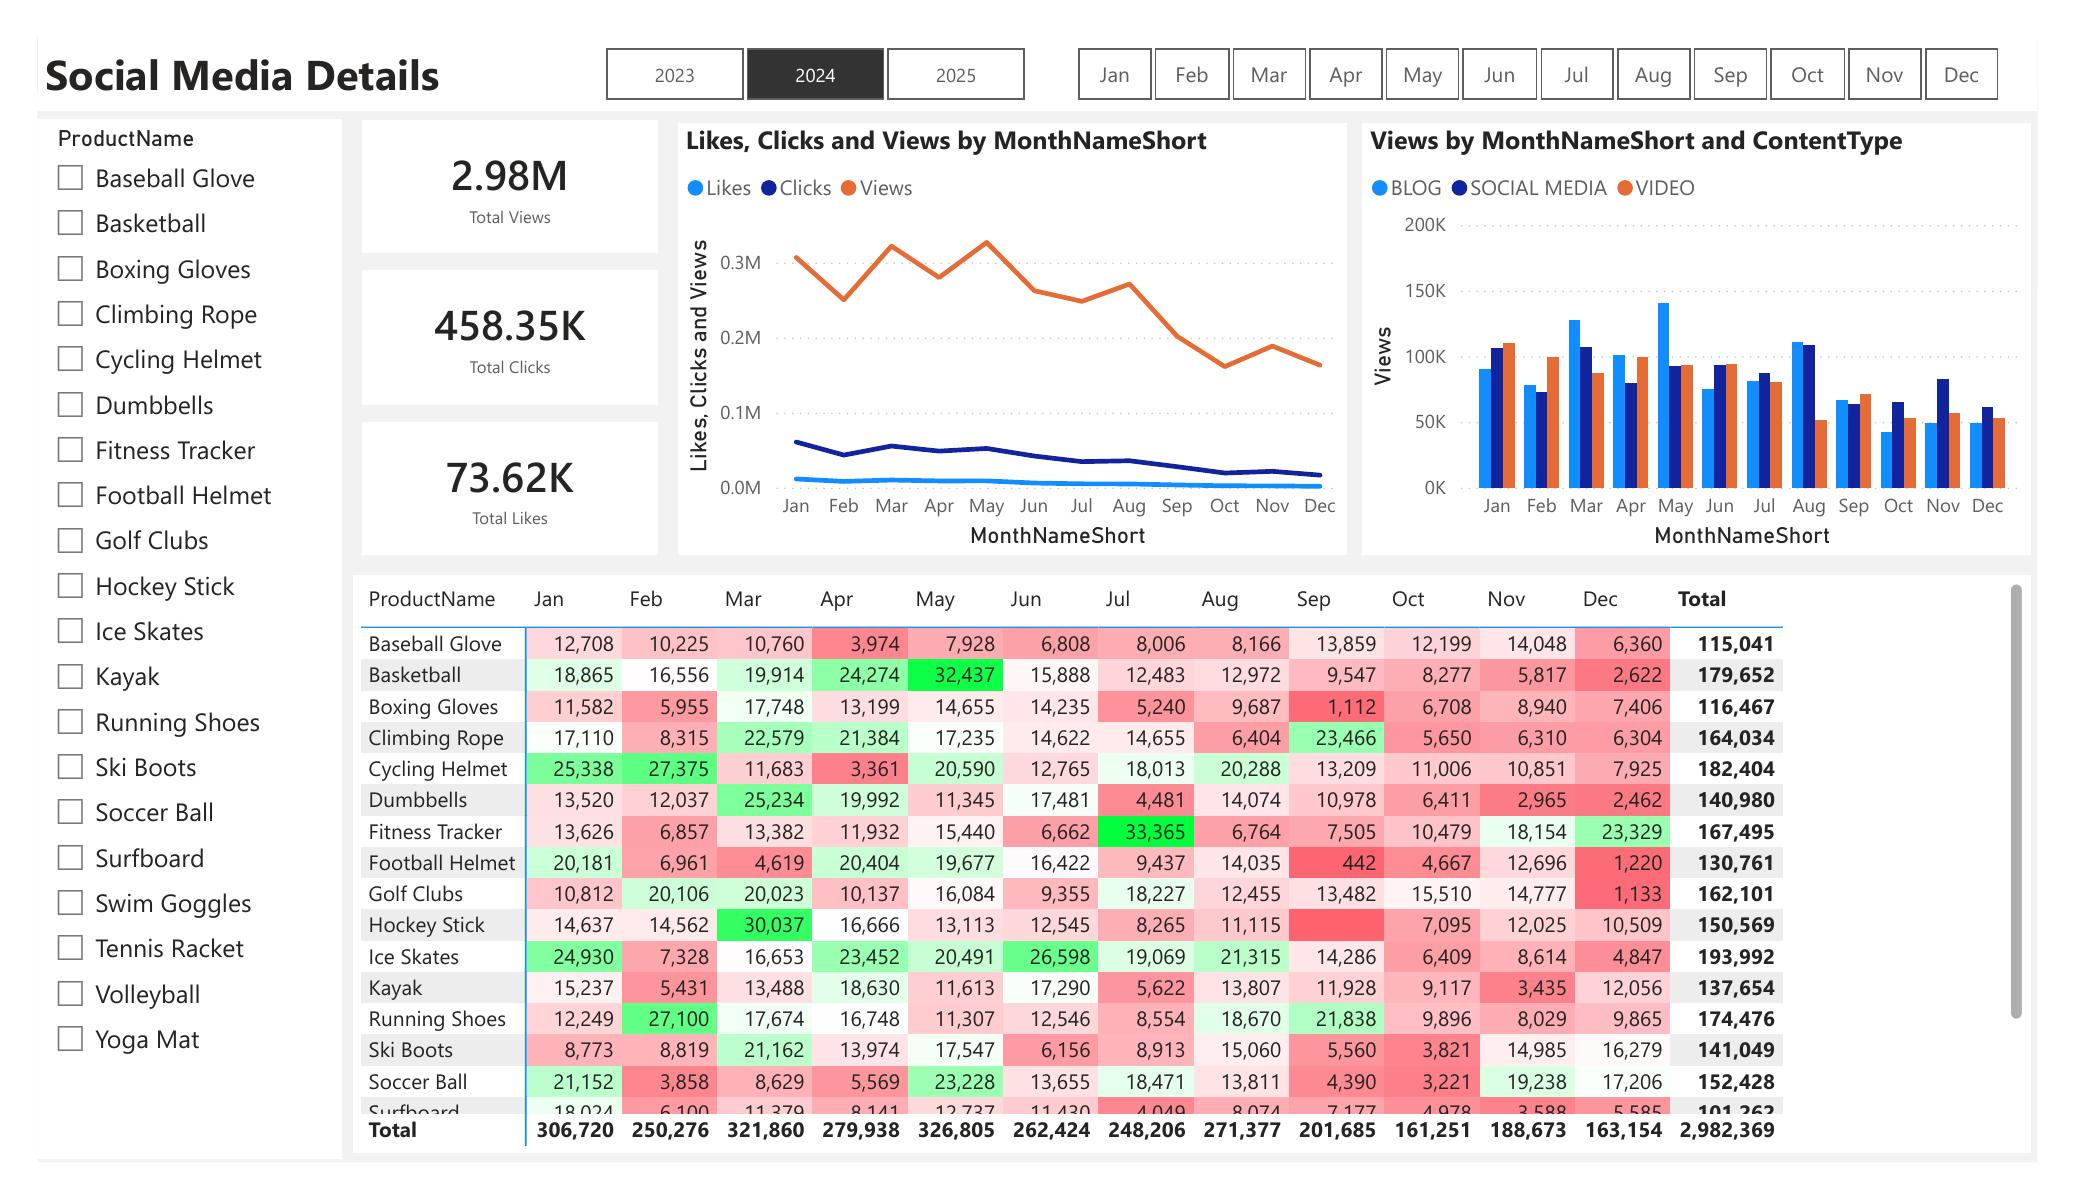

What the dashboard file says about the page in this screenshot:
{"tool":"powerbi","page":{"name":"Social Media page","canvas":[1280,720],"ordinal":2},"visuals":[{"type":"slicer","fields":{"Values":["products.ProductName"]},"box":[0,52.1,195.4,665.6],"z":0},{"type":"textbox","box":[0,0,1280.2,47.4],"z":1000},{"type":"cardVisual","fields":{"Data":["Measure Table.Total Likes"]},"box":[207.6,246,189.2,85.3],"z":2000},{"type":"cardVisual","fields":{"Data":["Measure Table.Total Views"]},"box":[207.6,52.6,189.2,85.3],"z":3000},{"type":"cardVisual","fields":{"Data":["Measure Table.Total Clicks"]},"box":[207.6,149.3,189.2,85.3],"z":4000},{"type":"slicer","fields":{"Values":["Calendar.Year"]},"box":[337.5,0,318.6,47.4],"z":5000},{"type":"slicer","fields":{"Values":["Calendar.MonthNameShort"]},"box":[639.5,0,639.5,47.4],"z":6000},{"type":"lineChart","title":"Likes, Clicks and Views by Month","fields":{"Category":["Calendar.MonthNameShort"],"Y":["Measure Table.Total Likes","Measure Table.Total Clicks","Measure Table.Total Views"]},"box":[409.6,55.5,428.1,275.9],"z":7000},{"type":"clusteredColumnChart","title":"Views by Month and ContentType","fields":{"Category":["Calendar.MonthNameShort"],"Series":["fact_engagement_data.ContentType"],"Y":["Measure Table.Total Views"]},"box":[847.6,55.5,428.1,275.9],"z":8000},{"type":"pivotTable","fields":{"Columns":["Calendar.MonthNameShort"],"Rows":["products.ProductName"],"Values":["Measure Table.Total Views"]},"box":[202,344.2,1073.8,369.8],"z":9000}]}

Visuals, with their boxes on the page's 1280x720 design canvas (x1, y1, x2, y2). These are canvas units, not pixel positions in the 2075x1200 screenshot, which may show the page scaled, cropped or inside an application window:
slicer - products.ProductName: select_region(0, 52, 195, 718)
textbox: select_region(0, 0, 1280, 47)
cardVisual - Measure Table.Total Likes: select_region(208, 246, 397, 331)
cardVisual - Measure Table.Total Views: select_region(208, 53, 397, 138)
cardVisual - Measure Table.Total Clicks: select_region(208, 149, 397, 235)
slicer - Calendar.Year: select_region(338, 0, 656, 47)
slicer - Calendar.MonthNameShort: select_region(640, 0, 1279, 47)
"Likes, Clicks and Views by Month" lineChart: select_region(410, 56, 838, 331)
"Views by Month and ContentType" clusteredColumnChart: select_region(848, 56, 1276, 331)
pivotTable - Calendar.MonthNameShort x products.ProductName: select_region(202, 344, 1276, 714)
